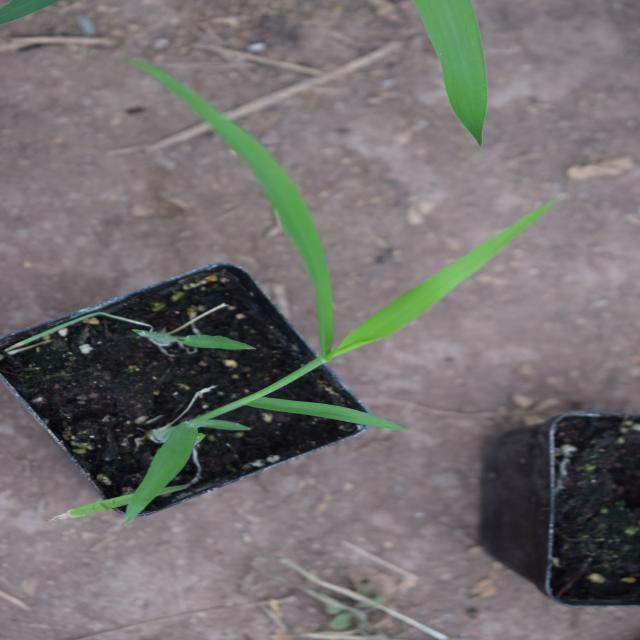crabgrass: (60, 117, 463, 470)
